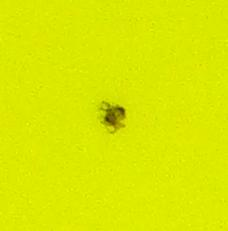Araneae: (100, 100, 128, 131)
